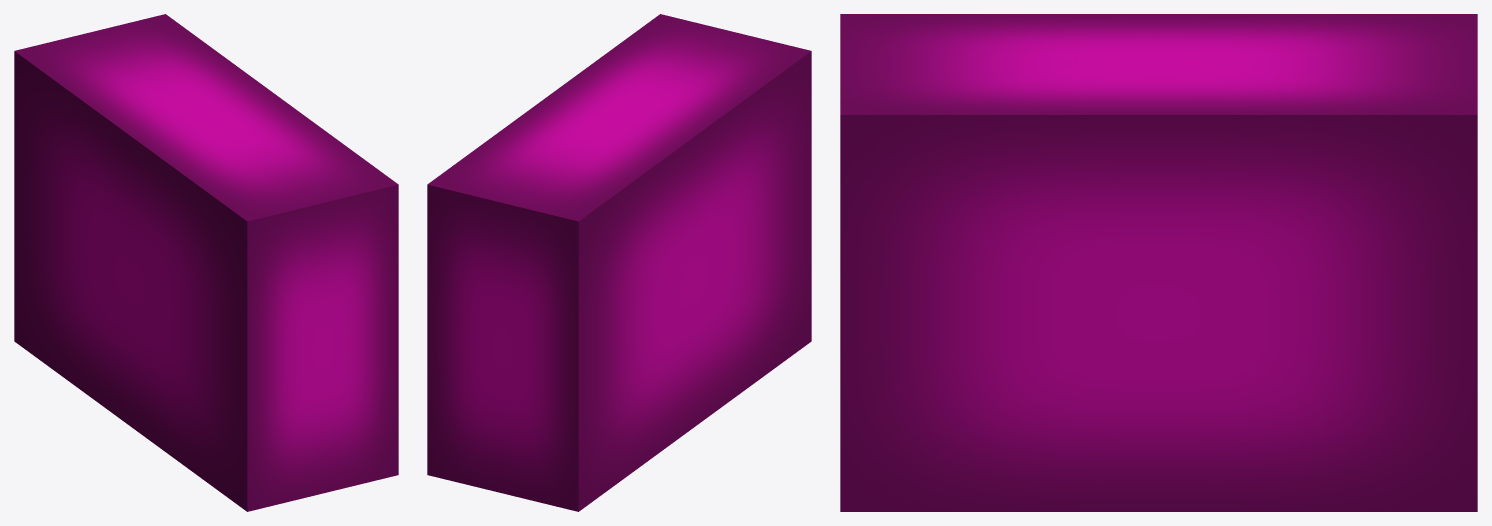
The model's file is block8.glb.
3 renders of one model, left to right at view 1: azimuth 30°, elevation 25°; view 2: azimuth 150°, elevation 25°; view 3: azimuth 270°, elevation 25°, orthographic. The views are drawn at different scales.
Visible parts, largest first — view 1: Object_28, Object_31, Object_26; view 2: Object_28, Object_29, Object_26; view 3: Object_30, Object_26.
Part boxes in pixels (bbox=[...]): Object_28: bbox=[14, 51, 247, 511]; Object_31: bbox=[247, 184, 398, 511]; Object_26: bbox=[15, 14, 398, 221]; Object_28: bbox=[578, 51, 811, 511]; Object_29: bbox=[427, 184, 578, 511]; Object_26: bbox=[427, 14, 810, 221]; Object_30: bbox=[840, 115, 1477, 511]; Object_26: bbox=[840, 14, 1477, 114].
Size of the model in its own units: 0.4572 by 0.8382 by 1.22.
1 material, 1 textured.
